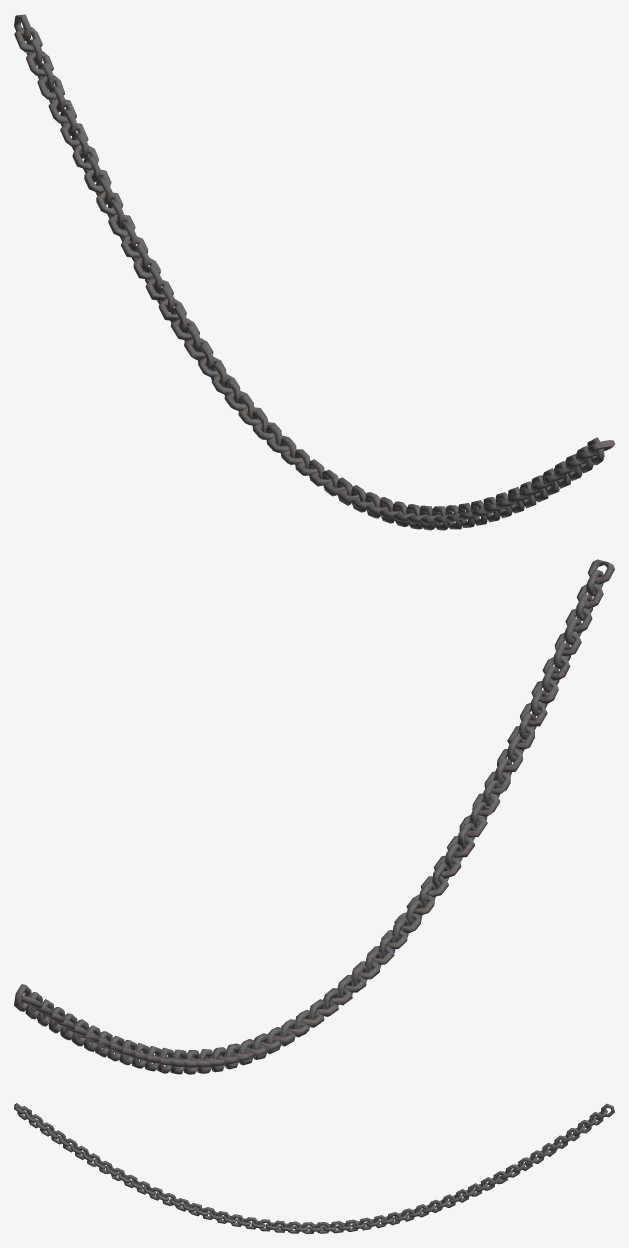
File: SM_Chain_Long.fbx
3 renders of one model, top to bottom at view 1: azimuth 30°, elevation 25°; view 2: azimuth 150°, elevation 25°; view 3: azimuth 270°, elevation 25°, orthographic. The views are drawn at different scales.
Parts seen in each view (by area): view 1: SM_Chain_Long_LOD0; view 2: SM_Chain_Long_LOD0; view 3: SM_Chain_Long_LOD0.
Boxes of the visible parts, x1,y1,x2,y2 form: SM_Chain_Long_LOD0: (14, 14, 614, 530); SM_Chain_Long_LOD0: (14, 559, 614, 1074); SM_Chain_Long_LOD0: (14, 1103, 614, 1233).
Bounding box in the file's own units: 5.6 × 258 × 61.37.
